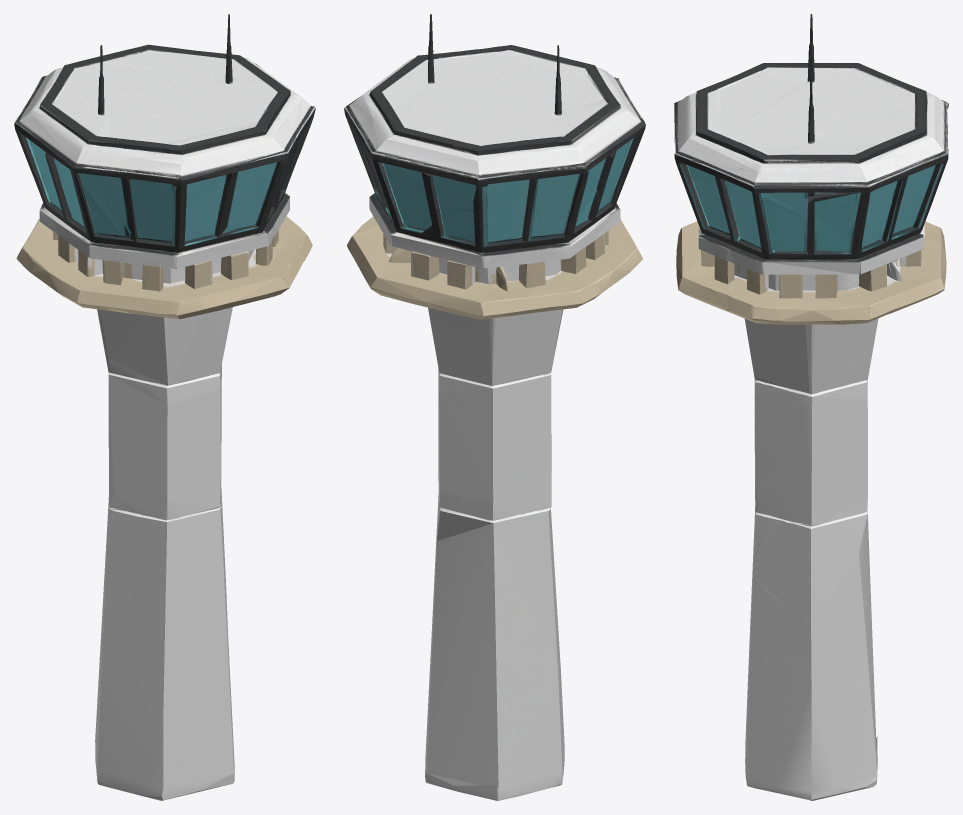
File: tower.glb
3 renders of one model, left to right at view 1: azimuth 30°, elevation 25°; view 2: azimuth 150°, elevation 25°; view 3: azimuth 270°, elevation 25°, orthographic.
Bounding box in the file's own units: 0.6534 × 1.9 × 0.6532.
1 material, 1 textured.
